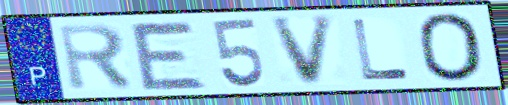5: (210, 17, 267, 89)
E: (126, 20, 211, 92)
L: (348, 16, 413, 82)
O: (414, 11, 488, 84)
R: (55, 22, 138, 94)
V: (268, 13, 339, 89)
